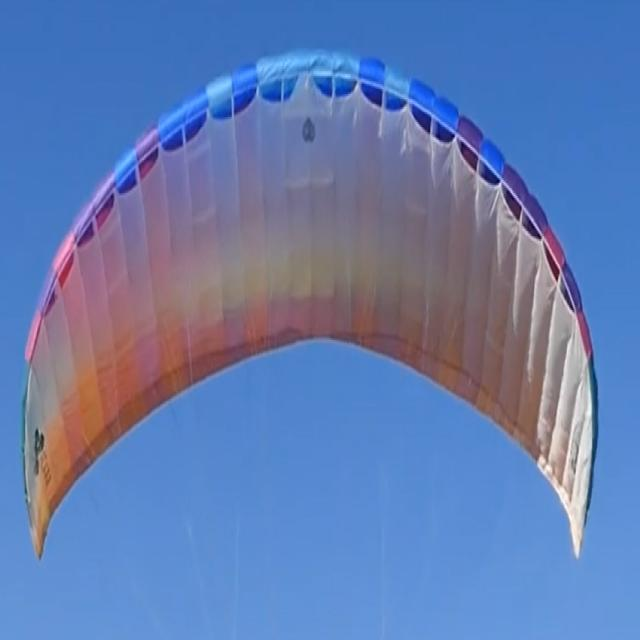paraglider: (19, 45, 598, 564)
